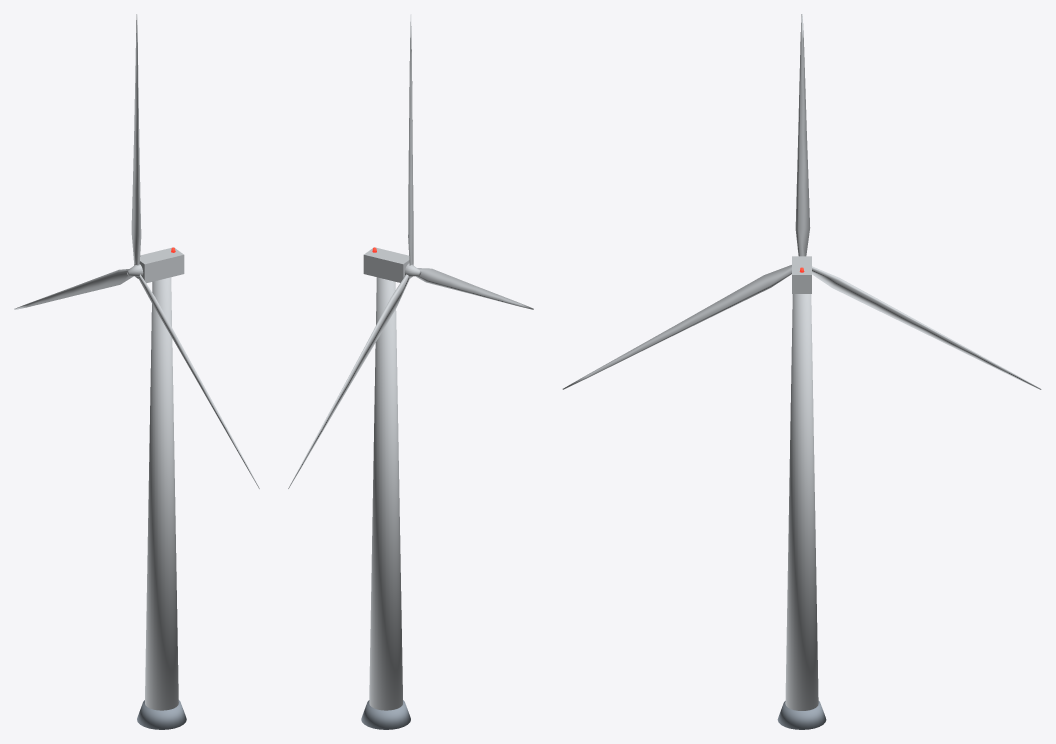
Rendered from wind_turbine_ge137.glb.
3 views of the same model, side by side, from view 1: azimuth 30°, elevation 25°; view 2: azimuth 150°, elevation 25°; view 3: azimuth 270°, elevation 25° (orthographic). The views are drawn at different scales.
Parts seen in each view (by area): view 1: TurbineBody, RotorHub; view 2: TurbineBody, RotorHub; view 3: TurbineBody, RotorHub.
Part boxes in pixels (box(x1,y1,x2,y2)): TurbineBody: box(134, 247, 186, 729); RotorHub: box(14, 14, 259, 488); TurbineBody: box(361, 247, 413, 729); RotorHub: box(288, 14, 533, 488); TurbineBody: box(777, 256, 826, 729); RotorHub: box(562, 14, 1041, 389).
Size of the model in its own units: 8.7 by 107 by 66.77.
